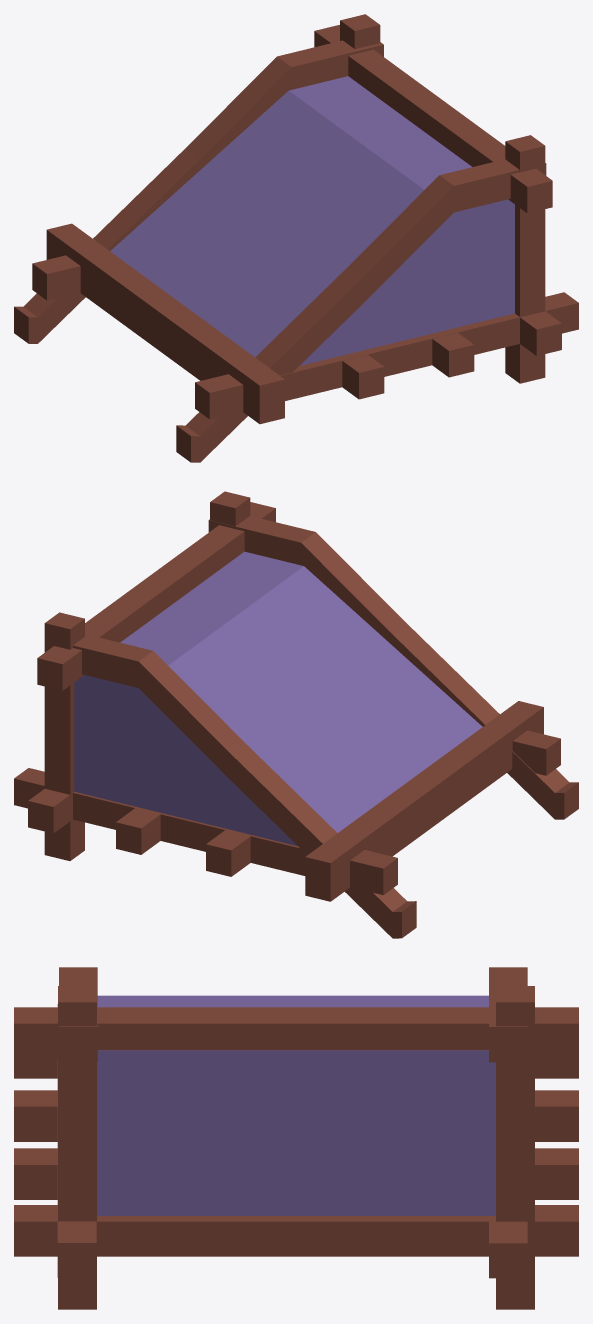
Rendered from OldTown_Roof2_gltf.gltf.
The picture shows the model from 3 angles, top to bottom: view 1: azimuth 30°, elevation 25°; view 2: azimuth 150°, elevation 25°; view 3: azimuth 270°, elevation 25°; orthographic projection. The views are drawn at different scales.
Parts seen in each view (by area): view 1: housesupportbeams (×12), roof2; view 2: housesupportbeams (×12), roof2; view 3: housesupportbeams (×11), roof2.
Boxes of the visible parts, x1=… form: housesupportbeams (×12): x1=14, y1=14, x2=578, y2=462; roof2: x1=110, y1=76, x2=514, y2=365; housesupportbeams (×12): x1=14, y1=491, x2=578, y2=938; roof2: x1=74, y1=551, x2=482, y2=845; housesupportbeams (×11): x1=14, y1=967, x2=578, y2=1309; roof2: x1=97, y1=995, x2=495, y2=1215.
Size of the model in its own units: 10.5 by 6.03 by 10.
2 materials, 2 textured.
